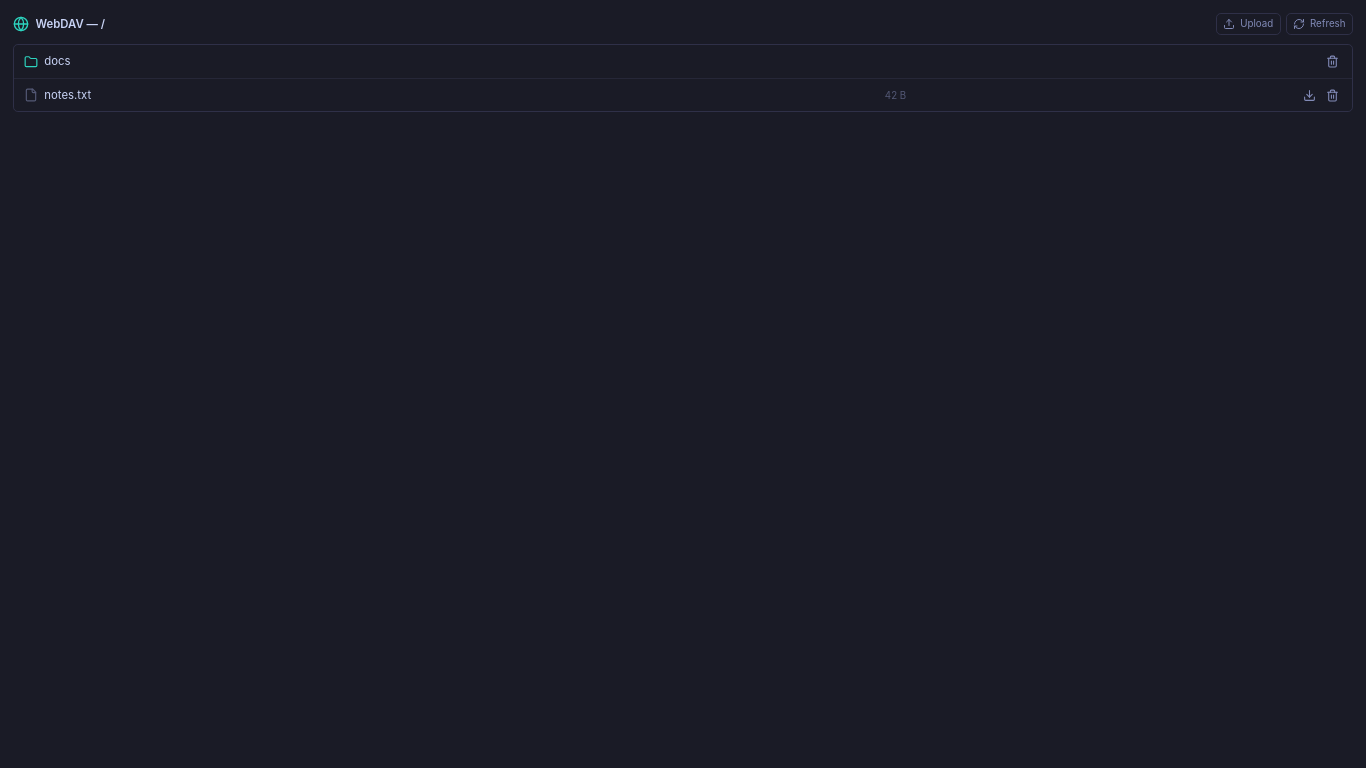
WebDavBrowser › shows an error toast when a download fails
Expected: the text "notes.txt" is shown, [44,87,91,103]
Click the button titled "Download": x=1310, y=95 [1300,85,1320,105]
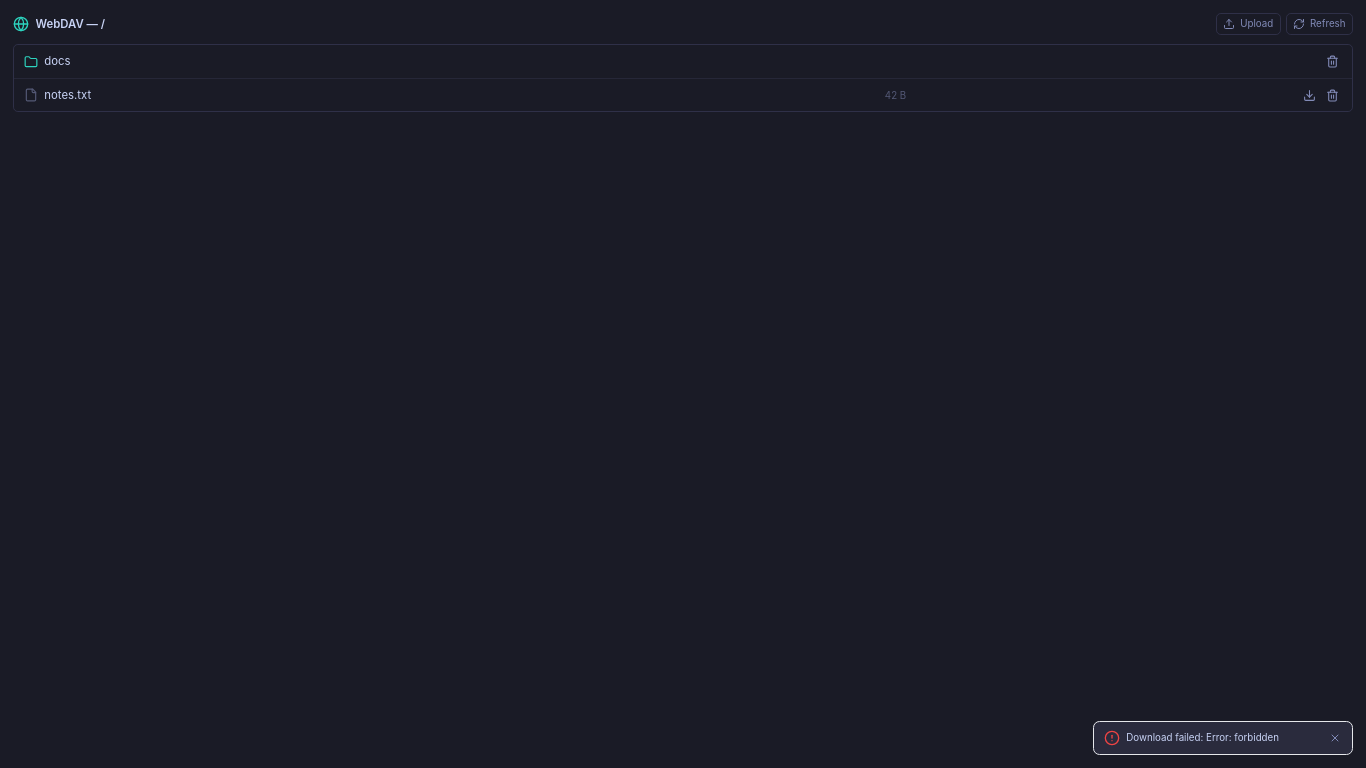
Now the text "Download failed: Error: forbidden" is shown, box [1126,732,1279,743]
